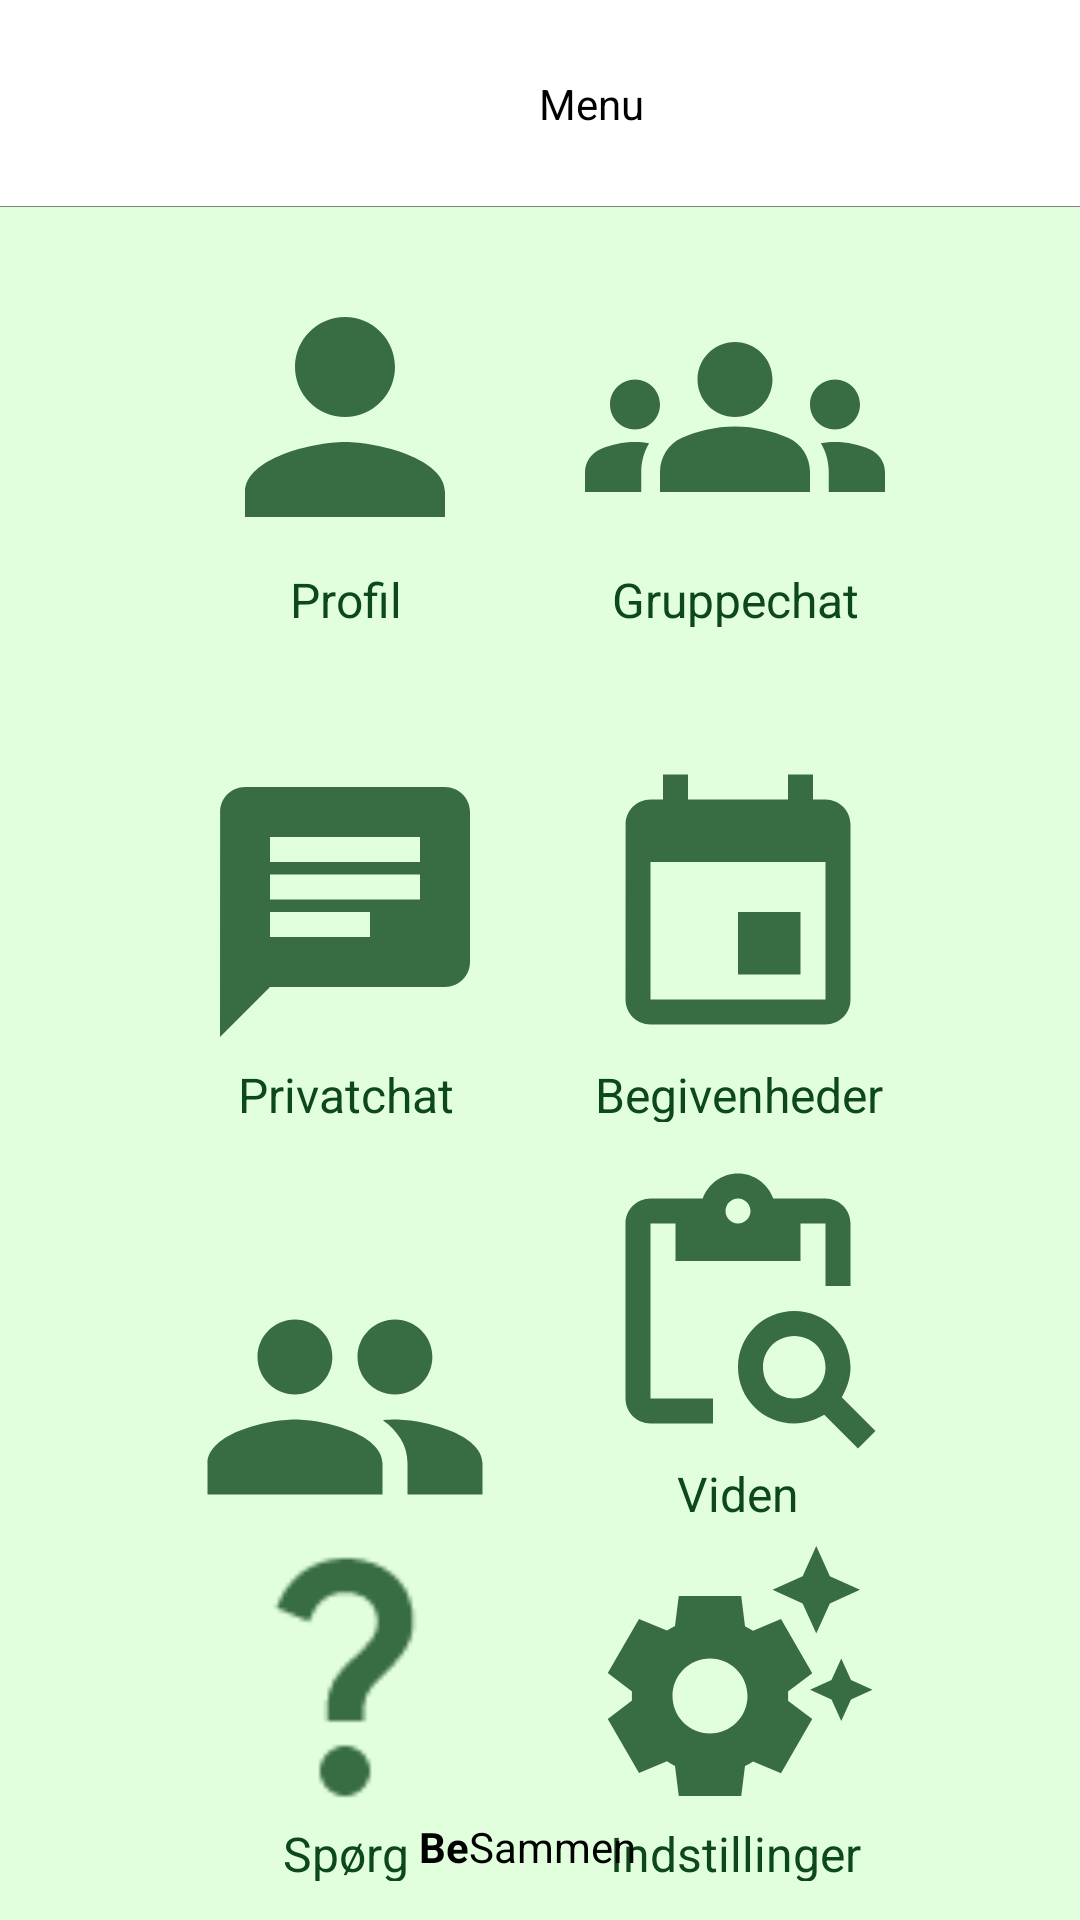

Locate icon controls on the screen. Image size 1080px×1920px, boxes as (x1, y1, x2, y2).
friends: (207, 1319, 483, 1495)
